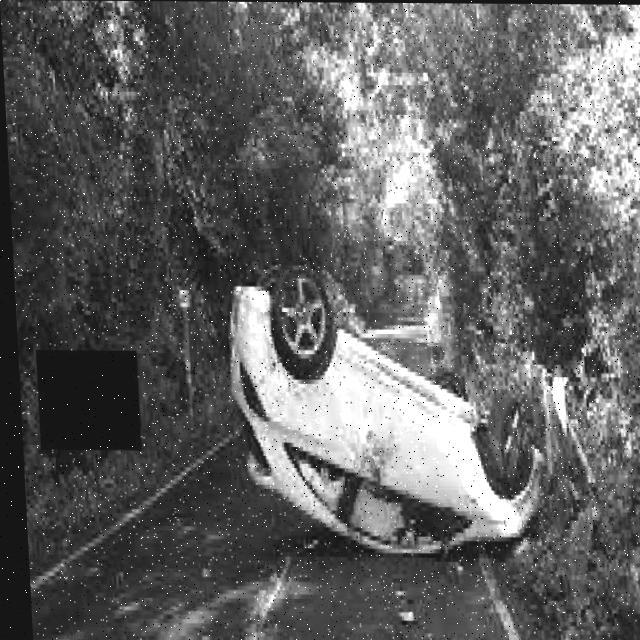single accident: (187, 157, 580, 605)
